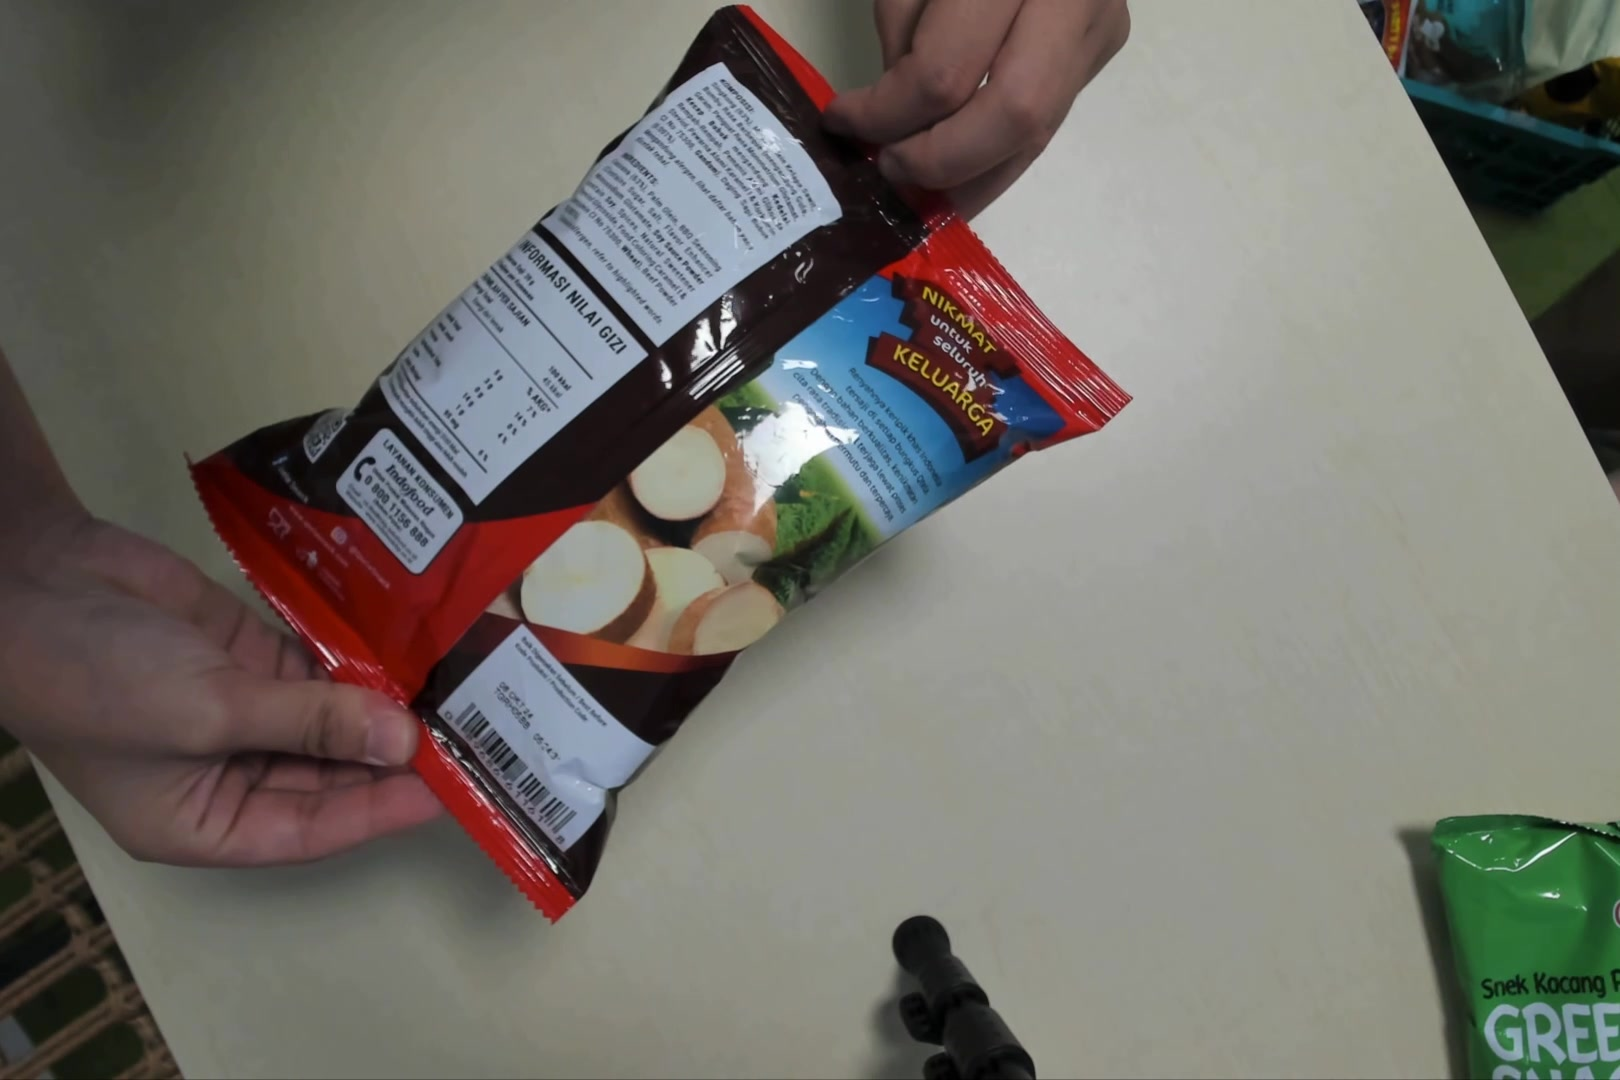PotatoChipsKeropok_0-99g_Halal_NonHealthy: (177, 18, 1140, 943)
